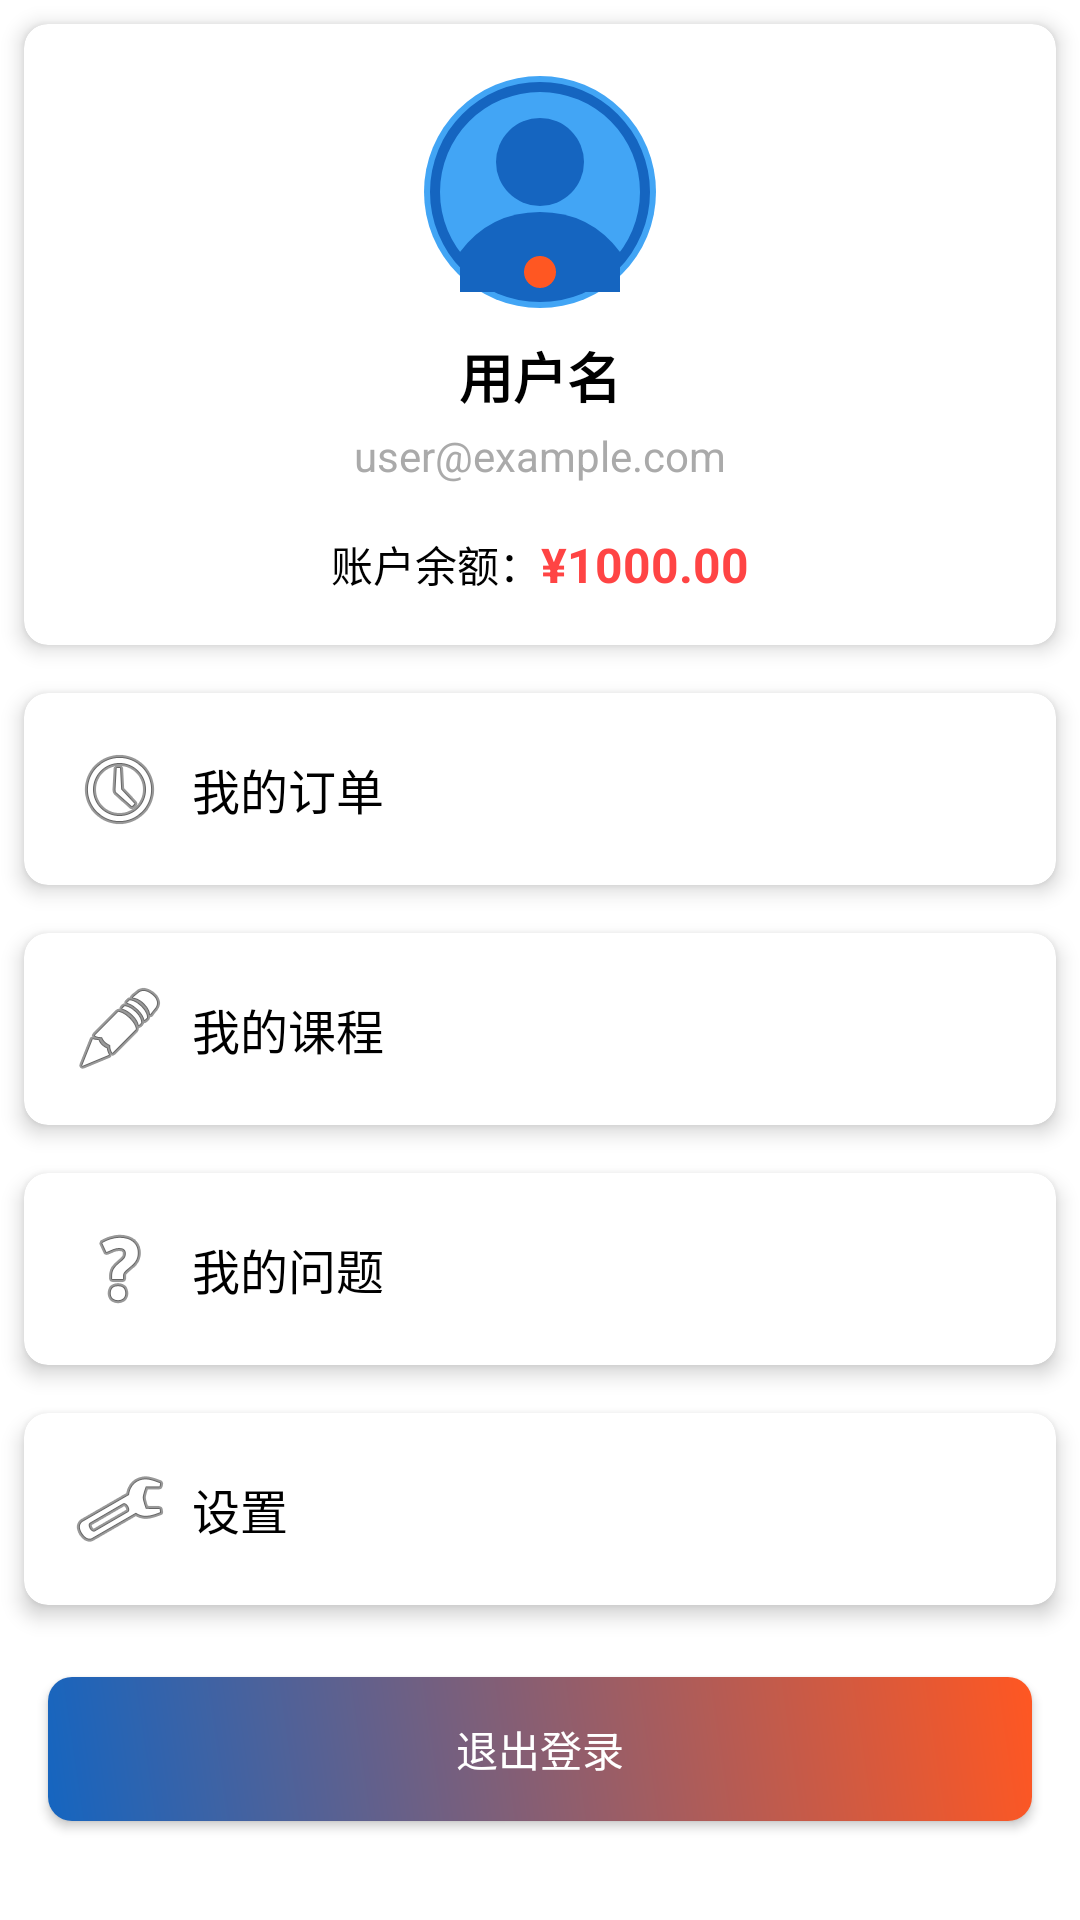

Screen size 1080px x 1920px. Icon name, then its center in pixels as point (x, y):
用户头像: point (540, 192)
